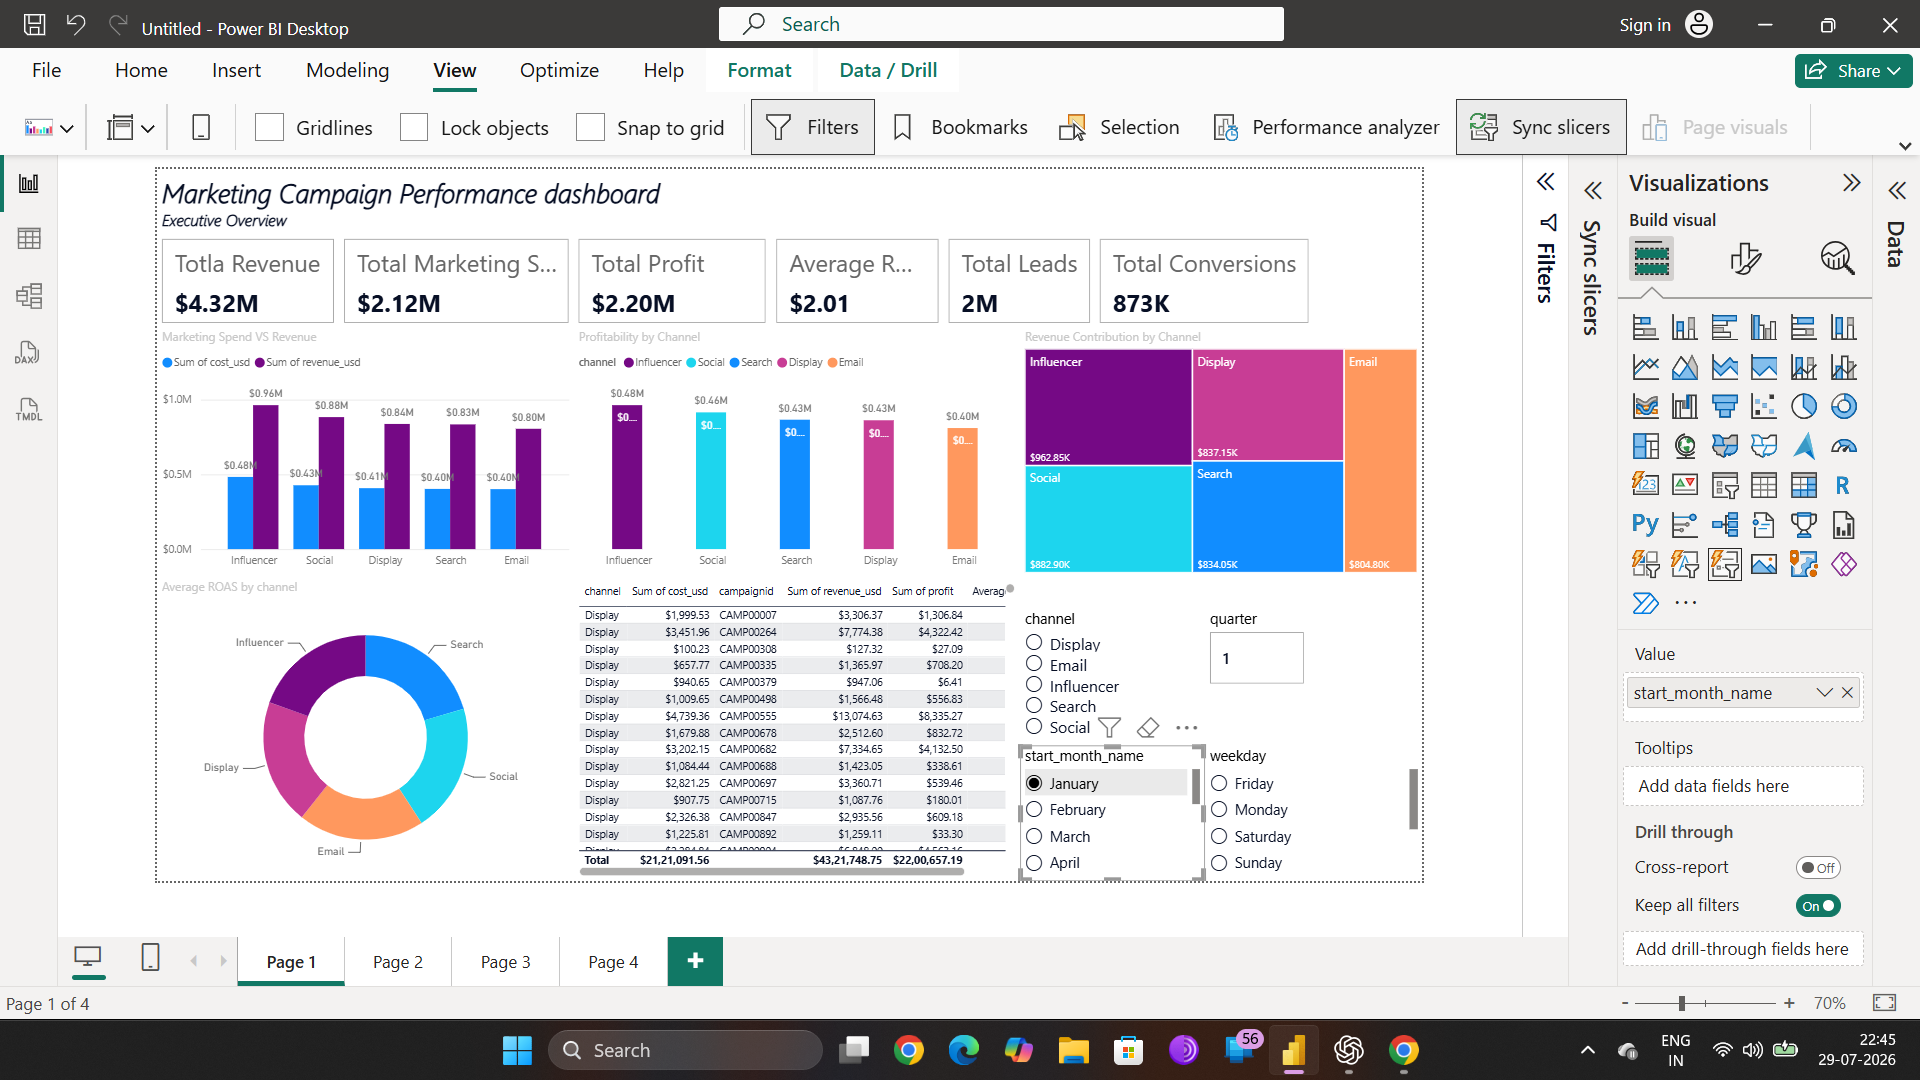

What the dashboard file says about the page in this screenshot:
{"tool":"powerbi","page":{"name":"Page 1","canvas":[1280,720],"ordinal":0},"visuals":[{"type":"cardVisual","fields":{"Data":["Sum(marketing_campaign_engineered.leads)"]},"box":[840,66,154.5,96.4],"z":0},{"type":"cardVisual","fields":{"Data":["Sum(marketing_campaign_engineered.cost_usd)"]},"box":[183.6,66,282.6,96.4],"z":1000},{"type":"cardVisual","fields":{"Data":["Avg(marketing_campaign_engineered.roas)"]},"box":[665.7,66,174.3,96.4],"z":2000},{"type":"cardVisual","fields":{"Data":["Sum(marketing_campaign_engineered.conversions)"]},"box":[994.5,66,220.6,96.4],"z":3000},{"type":"cardVisual","fields":{"Data":["Sum(marketing_campaign_engineered.profit)"]},"box":[466.2,64.7,199.4,96.4],"z":4000},{"type":"cardVisual","fields":{"Data":["Sum(marketing_campaign_engineered.revenue_usd)"]},"box":[0,66.4,184,95.5],"z":5000},{"type":"textbox","box":[0,0,1170.5,66.4],"z":6000},{"type":"treemap","title":"Revenue Contribution by Channel","fields":{"Values":["Sum(marketing_campaign_engineered.revenue_usd)"],"Group":["marketing_campaign_engineered.channel"]},"box":[873,161.9,406.8,251.8],"z":7000},{"type":"clusteredColumnChart","title":"Marketing Spend VS Revenue","fields":{"Category":["marketing_campaign_engineered.channel"],"Y":["Sum(marketing_campaign_engineered.cost_usd)","Sum(marketing_campaign_engineered.revenue_usd)"]},"box":[0,161.9,422,251.8],"z":8000},{"type":"ribbonChart","title":"Profitability by Channel","fields":{"Category":["marketing_campaign_engineered.channel"],"Series":["marketing_campaign_engineered.channel"],"Y":["Sum(marketing_campaign_engineered.profit)"]},"box":[422,161.9,451,251.8],"z":9000},{"type":"donutChart","title":"Average ROAS by channel","fields":{"Category":["marketing_campaign_engineered.channel"],"Y":["Avg(marketing_campaign_engineered.roas)"]},"box":[0,413.7,422,305.8],"z":10000},{"type":"tableEx","fields":{"Values":["marketing_campaign_engineered.channel","Sum(marketing_campaign_engineered.cost_usd)","marketing_campaign_engineered.campaignid","Sum(marketing_campaign_engineered.revenue_usd)","Sum(marketing_campaign_engineered.profit)","Avg(marketing_campaign_engineered.roas)"]},"box":[422,413.7,451,305.8],"z":11000},{"type":"advancedSlicerVisual","fields":{"Values":["marketing_campaign_engineered.quarter"]},"box":[1060,444.3,220,138.6],"z":11001},{"type":"listSlicer","fields":{"Values":["marketing_campaign_engineered.channel"]},"box":[872.9,444.3,187.1,138.6],"z":11002},{"type":"listSlicer","fields":{"Values":["marketing_campaign_engineered.start_month_name"]},"box":[872.9,582.9,187.1,137.1],"z":11003},{"type":"listSlicer","fields":{"Values":["marketing_campaign_engineered.weekday"]},"box":[1060,582.9,220,137.1],"z":11004}]}

Visuals, with their boxes on the page's 1280x720 design canvas (x1, y1, x2, y2). These are canvas units, not pixel positions in the 1920x1080 screenshot, which may show the page scaled, cropped or inside an application window:
cardVisual - Sum(marketing_campaign_engineered.leads): [840, 66, 994, 162]
cardVisual - Sum(marketing_campaign_engineered.cost_usd): [184, 66, 466, 162]
cardVisual - Avg(marketing_campaign_engineered.roas): [666, 66, 840, 162]
cardVisual - Sum(marketing_campaign_engineered.conversions): [994, 66, 1215, 162]
cardVisual - Sum(marketing_campaign_engineered.profit): [466, 65, 666, 161]
cardVisual - Sum(marketing_campaign_engineered.revenue_usd): [0, 66, 184, 162]
textbox: [0, 0, 1170, 66]
"Revenue Contribution by Channel" treemap: [873, 162, 1280, 414]
"Marketing Spend VS Revenue" clusteredColumnChart: [0, 162, 422, 414]
"Profitability by Channel" ribbonChart: [422, 162, 873, 414]
"Average ROAS by channel" donutChart: [0, 414, 422, 720]
tableEx - marketing_campaign_engineered.channel x Sum(marketing_campaign_engineered.cost_usd): [422, 414, 873, 720]
advancedSlicerVisual - marketing_campaign_engineered.quarter: [1060, 444, 1280, 583]
listSlicer - marketing_campaign_engineered.channel: [873, 444, 1060, 583]
listSlicer - marketing_campaign_engineered.start_month_name: [873, 583, 1060, 720]
listSlicer - marketing_campaign_engineered.weekday: [1060, 583, 1280, 720]
